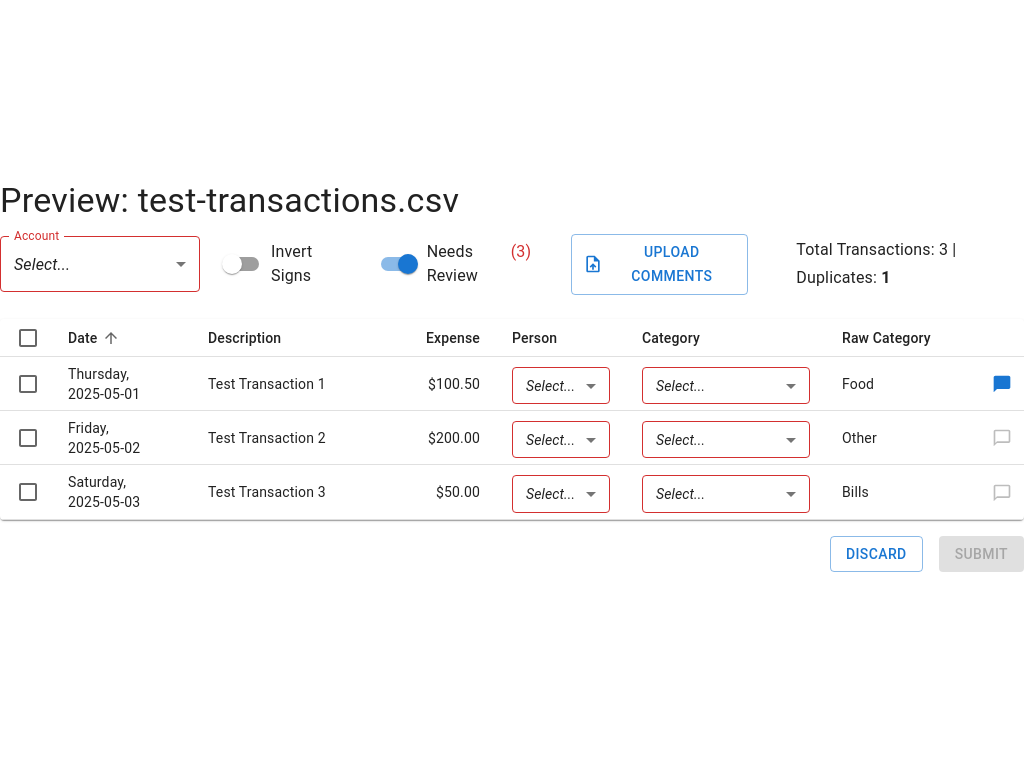
Scenario: PreviewPage › creates a new account via modal
This screenshot has width=1024, height=768.
// Open modal
Press the mouse on the dropdown named "Account" at (42, 264), box [14,255,70,274]
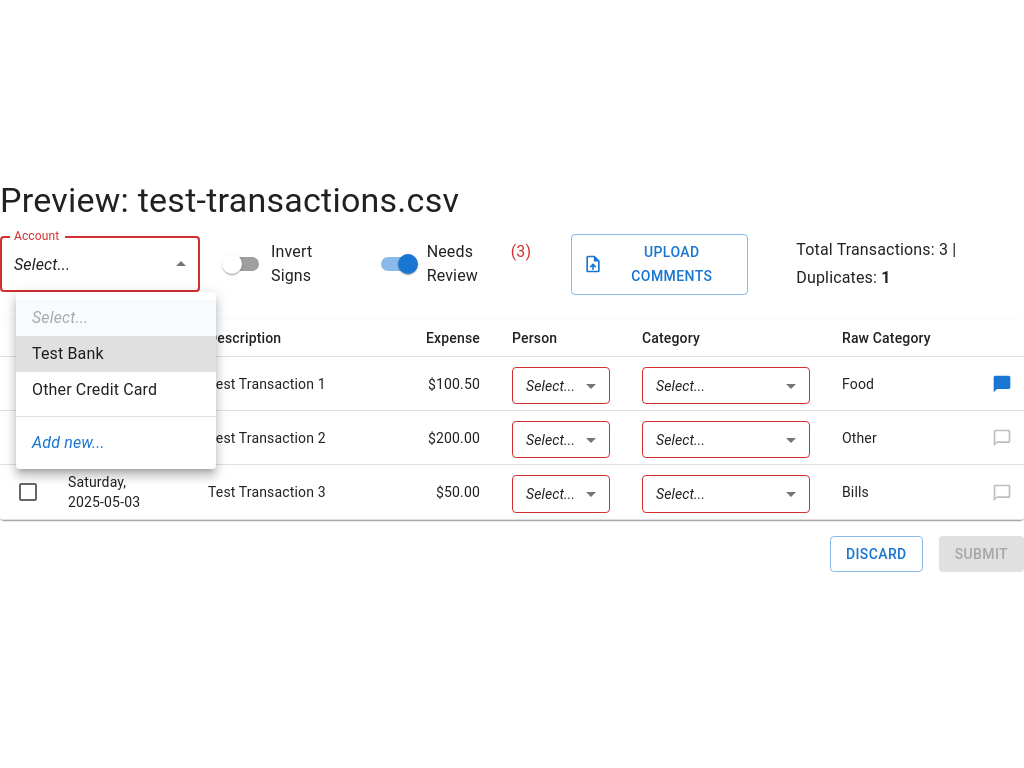
Click the option "Add new...".
click(68, 442)  # box [32,433,105,452]
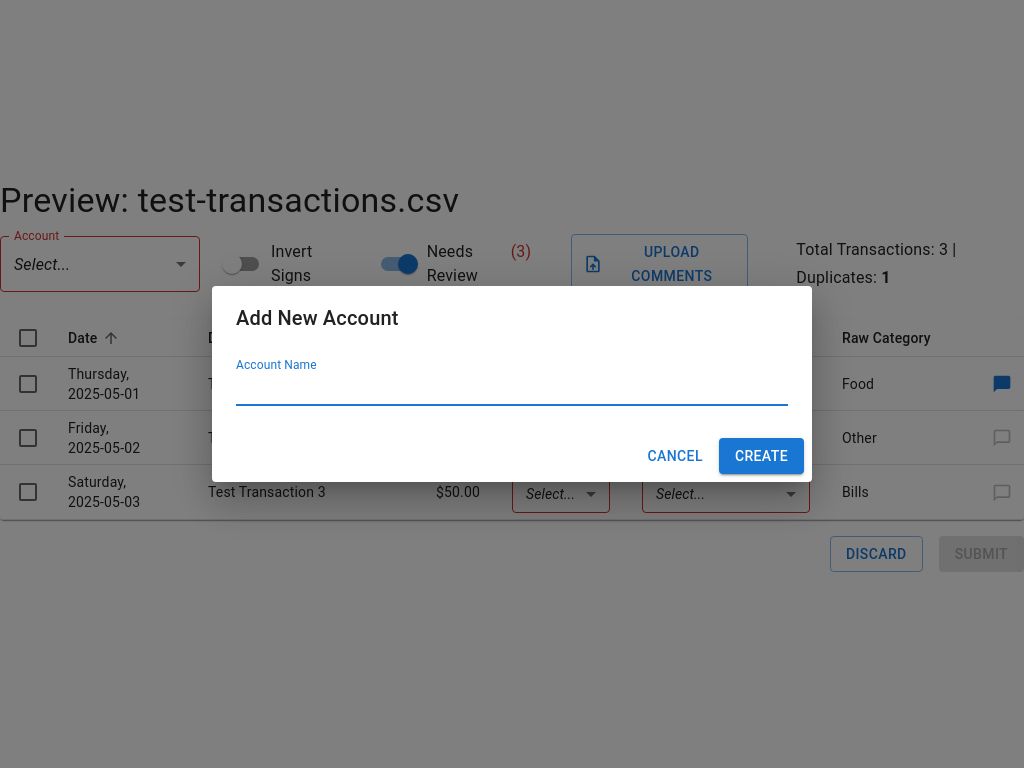
// Fill name and submit
Type "Brand New Bank" into the field labelled "Account Name".
click(512, 390); type("Brand New Bank")  # box [236,374,788,406]
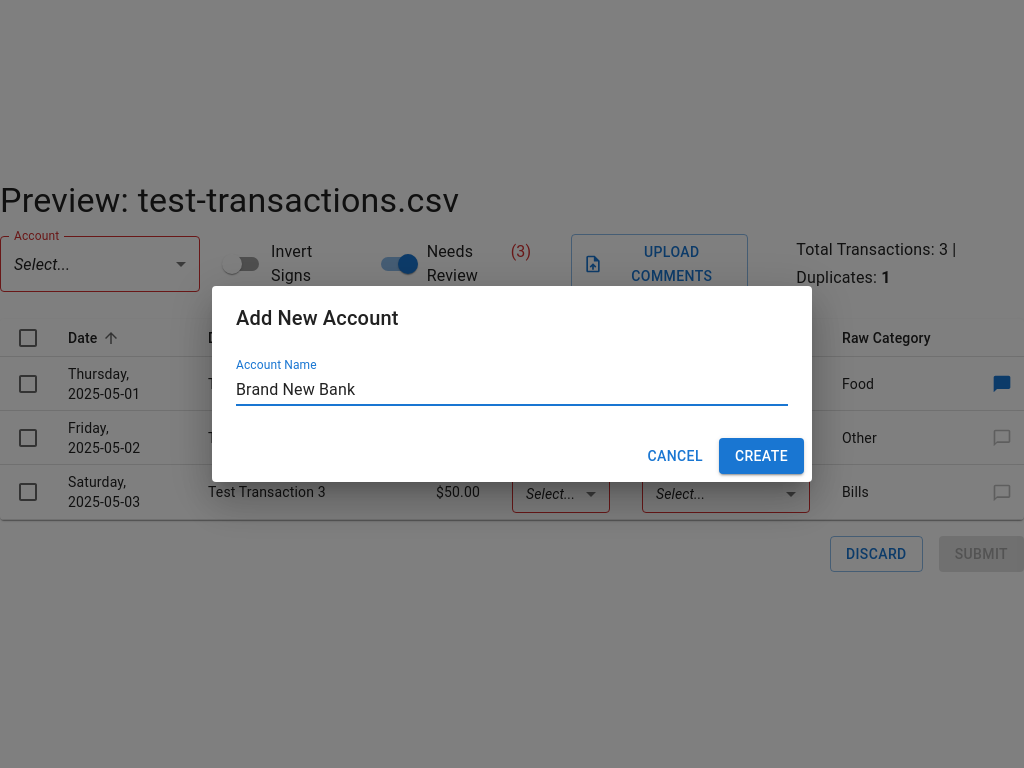
Click the button "Create".
click(761, 456)  # box [719,438,804,474]
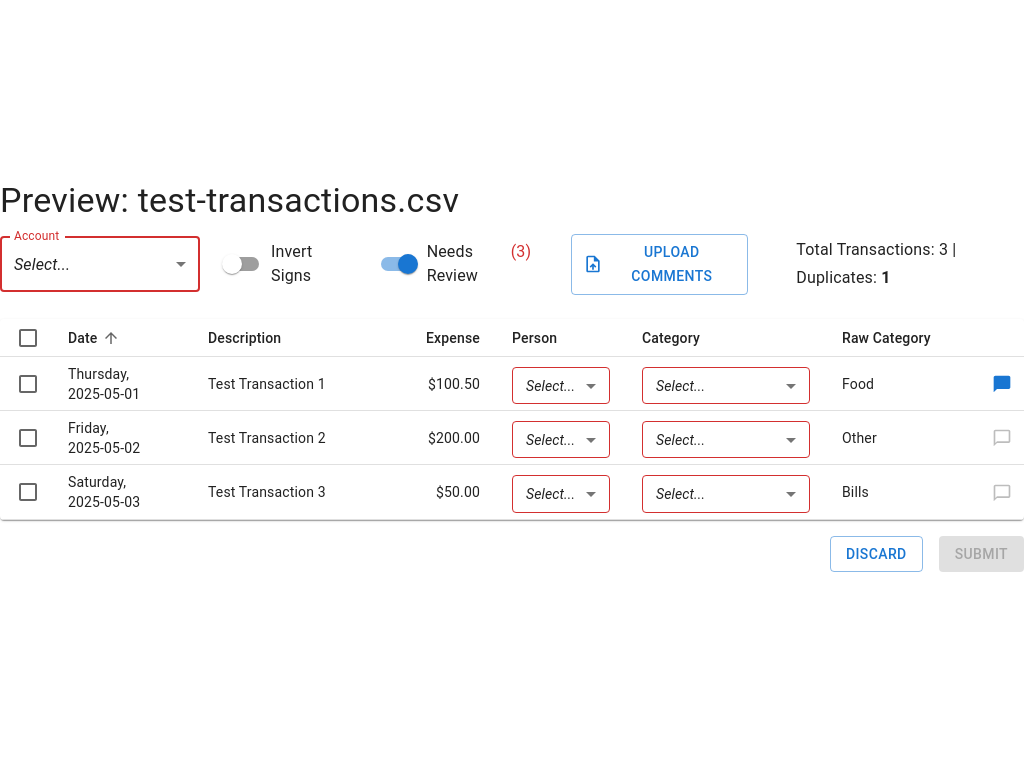
Check: the heading "Add New Account" is gone
